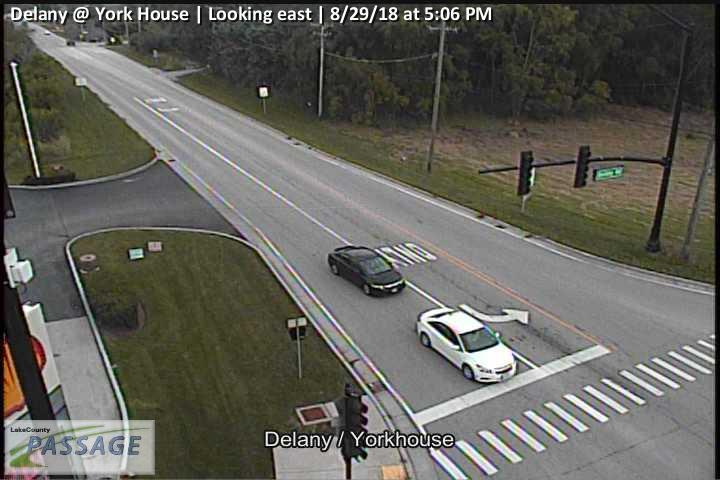Sedan: (416, 307, 518, 384), (329, 246, 405, 297)
